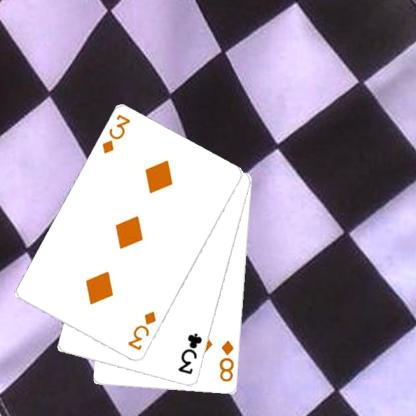3C: (176, 330, 204, 376)
3D: (124, 308, 158, 352), (99, 112, 132, 155)
8D: (216, 338, 235, 384)
